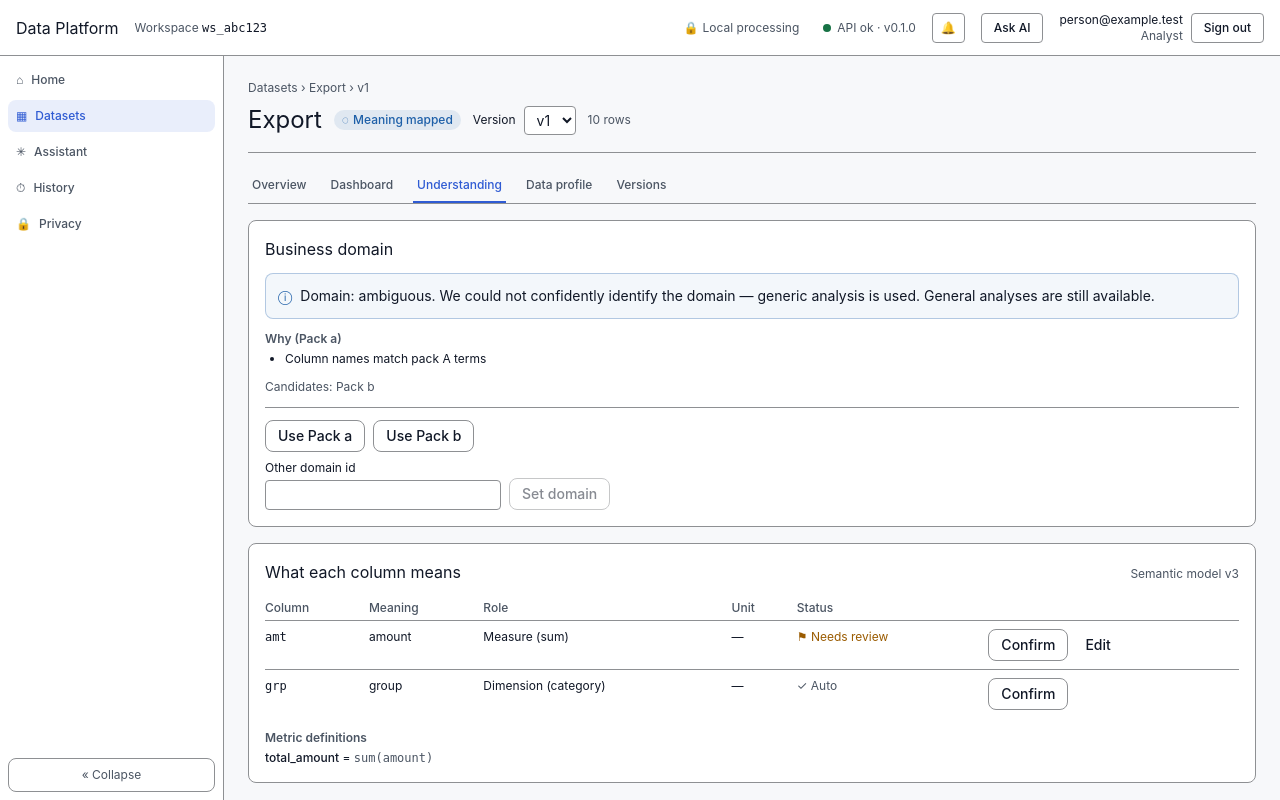
SemanticMappingViewer (TASK-UI-007) › confirms a mapping with a PATCH against the model version on screen
Click the button with aria-label "Confirm amt means amount" at coordinates (1028, 645), box [988,629,1068,661]
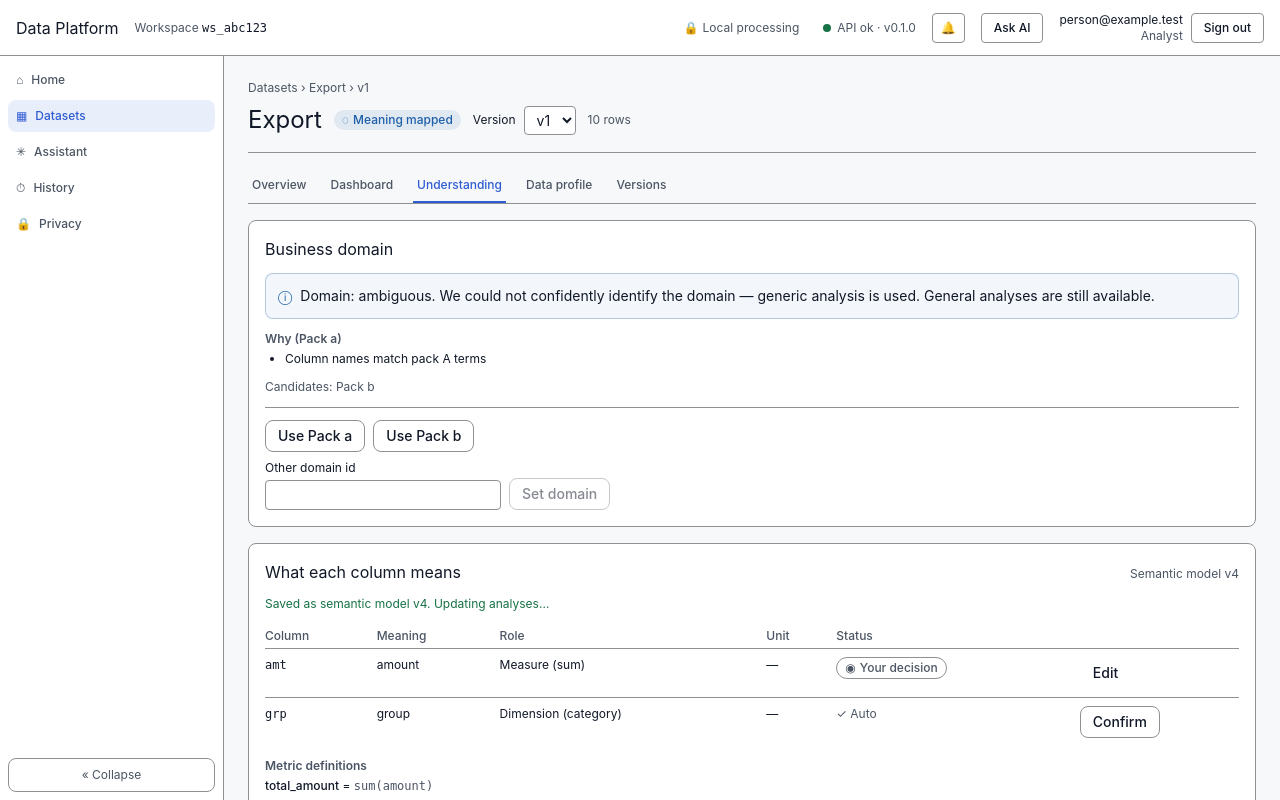
Now the text "Saved as semantic model v4. Updating analyses…" is shown, box [265,596,549,611]
Now the text "Your decision" is shown, box [860,660,938,675]
